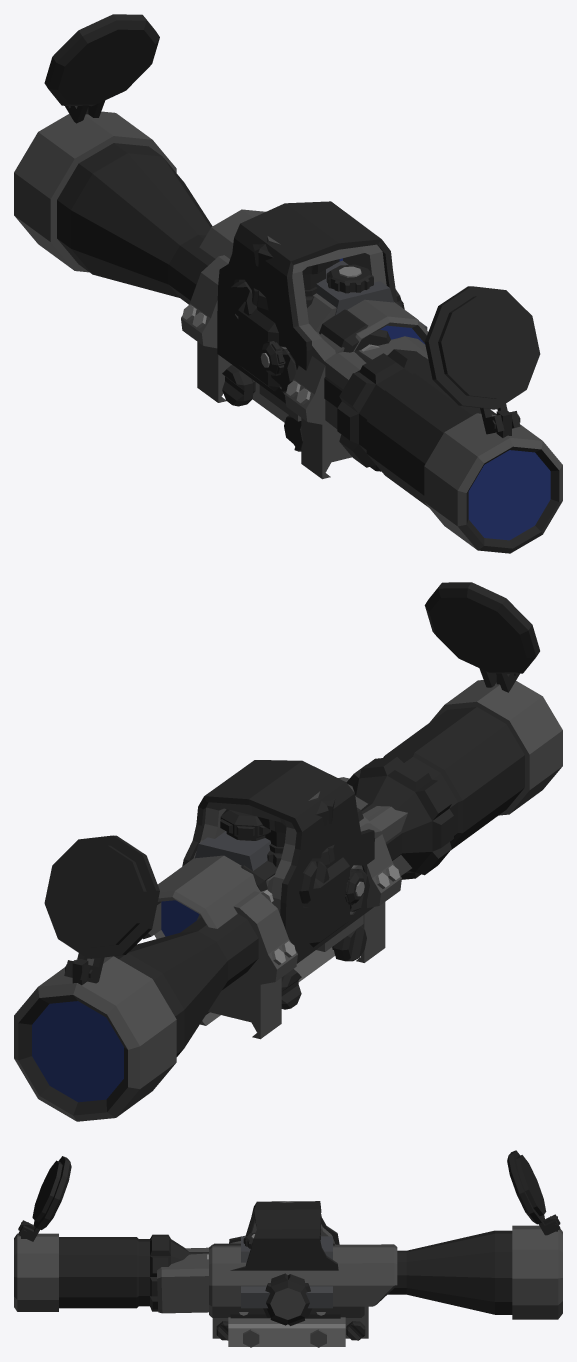
The model's file is attachments.fbx.
The picture shows the model from 3 angles, top to bottom: view 1: azimuth 30°, elevation 25°; view 2: azimuth 150°, elevation 25°; view 3: azimuth 270°, elevation 25°; orthographic projection. The views are drawn at different scales.
Parts seen in each view (by area): view 1: Sniper_Scope, dot_sight, advanced_optic_sight, Laser_Module; view 2: Sniper_Scope, dot_sight, advanced_optic_sight, Laser_Module; view 3: Sniper_Scope, advanced_optic_sight, dot_sight.
Boxes of the visible parts, <box> form: Sniper_Scope: <box>14,14,562,553</box>; dot_sight: <box>217,201,428,428</box>; advanced_optic_sight: <box>199,209,428,451</box>; Laser_Module: <box>259,293,390,421</box>; Sniper_Scope: <box>14,582,562,1121</box>; dot_sight: <box>183,760,411,963</box>; advanced_optic_sight: <box>143,809,366,1009</box>; Laser_Module: <box>241,807,363,951</box>; Sniper_Scope: <box>14,1150,562,1340</box>; advanced_optic_sight: <box>209,1232,397,1347</box>; dot_sight: <box>157,1201,340,1318</box>.
Size of the model in its own units: 15.22 by 25.07 by 71.13.
